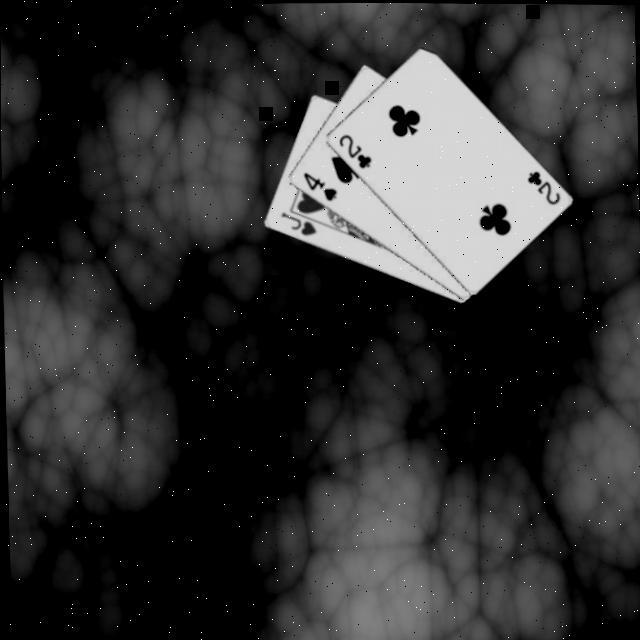2C: (336, 128, 375, 170), (524, 165, 562, 206)
4S: (300, 166, 340, 204)
JH: (277, 206, 319, 237)
